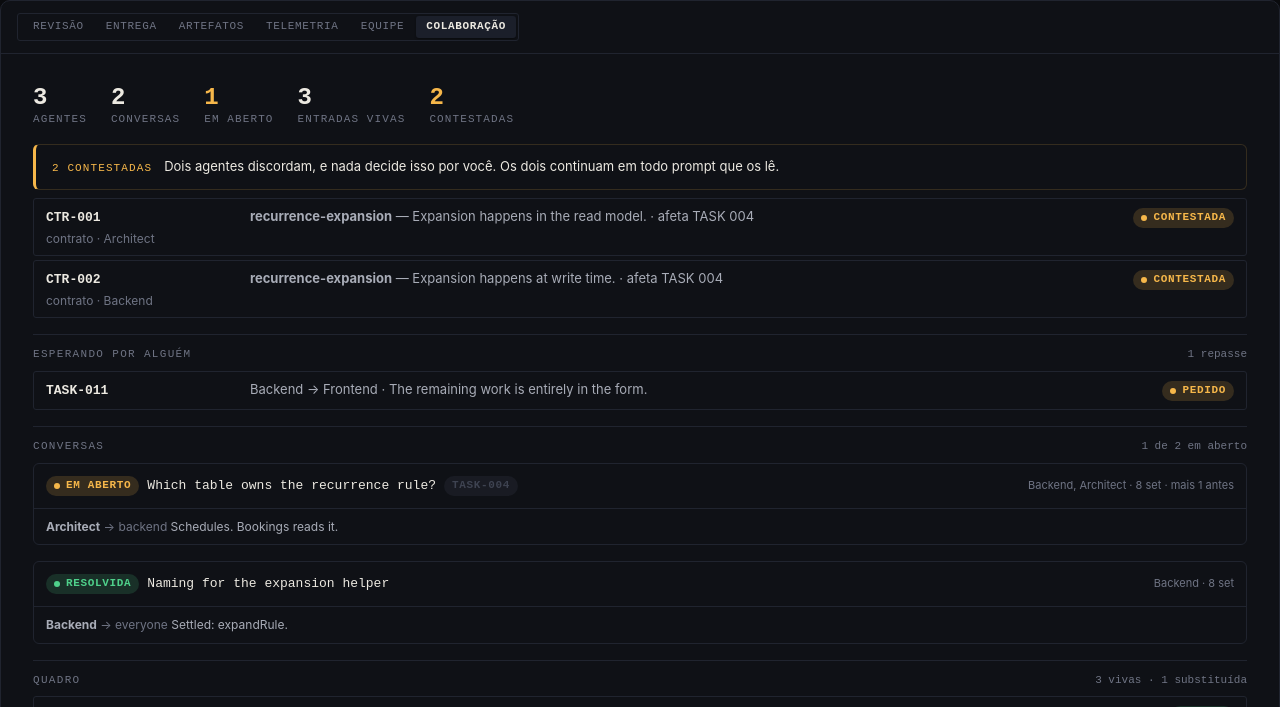
what the agents said to each other › opens a thread onto the whole exchange, and shows the last line until then
Expected: the text "Schedules. Bookings reads it." is shown, [171,519,338,534]
Expected: the text "The plan puts it on bookings" is not shown
What coordinates should you click on to do the following:
click the button "Which table owns the recurrence rule"
I would click on:
 (93, 486)
Its box is [34,464,1246,508].
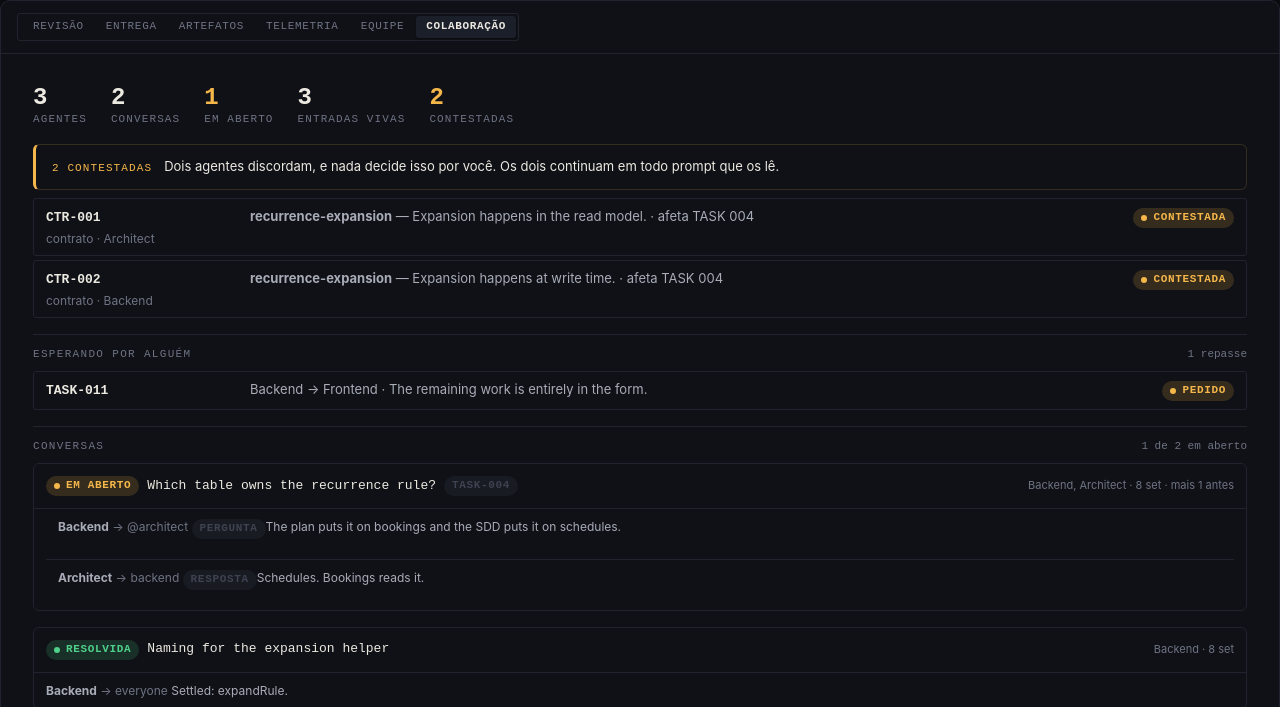
Expected: the text "The plan puts it on bookings" is shown, [266,519,621,534]
